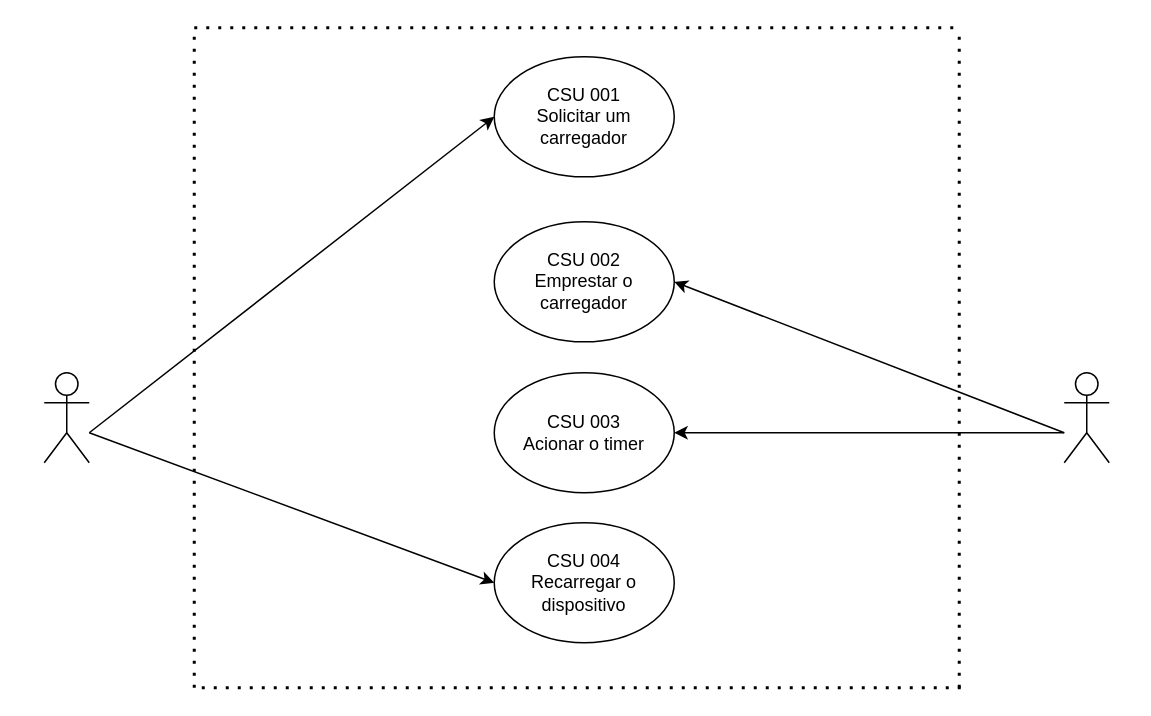
This 1151x716 diagram has some shape labels left out. Here are the shapes that lost their labels. From the top down, the centre of each, then its label:
At point 66,417: "Solicitante".
At point 1086,417: "Mutuante".
